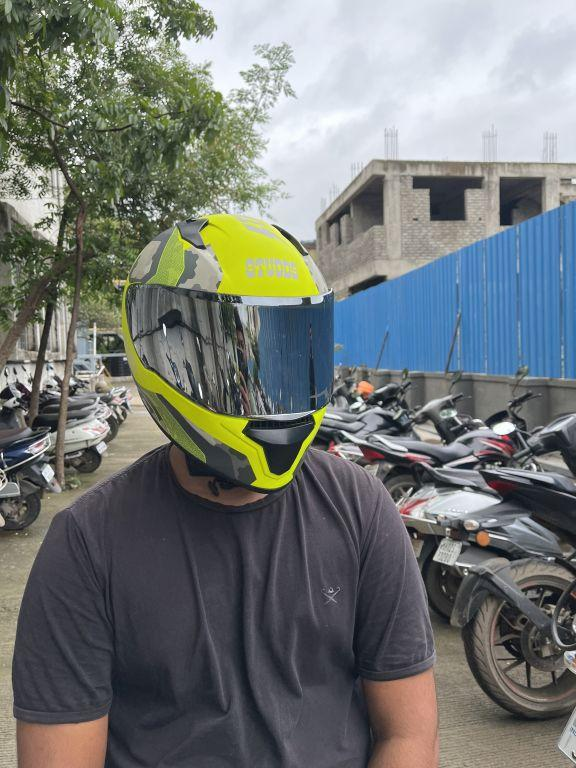helmet: (115, 207, 342, 505)
